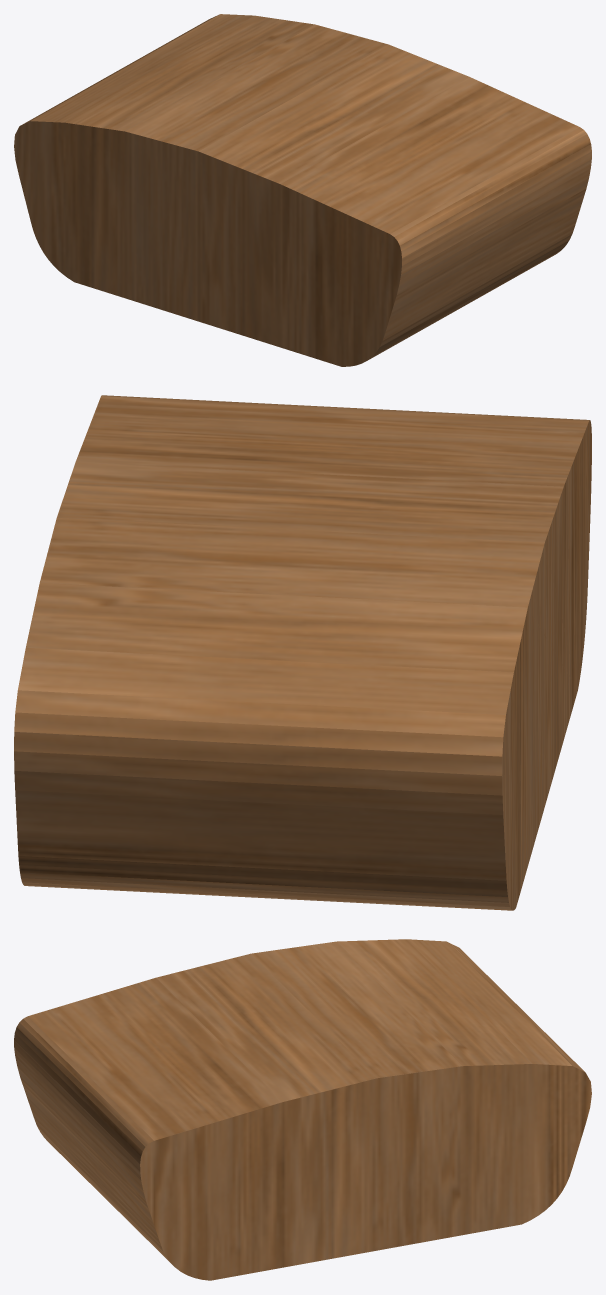
File: Table02.glb
3 renders of one model, top to bottom at view 1: azimuth 30°, elevation 25°; view 2: azimuth 150°, elevation 25°; view 3: azimuth 270°, elevation 25°, orthographic. The views are drawn at different scales.
Visible parts, largest first — view 1: Geom3D_.434; view 2: Geom3D_.434; view 3: Geom3D_.434.
Part boxes in pixels (left/top/right/bottom): Geom3D_.434: left=14, top=14, right=591, bottom=366; Geom3D_.434: left=14, top=395, right=591, bottom=910; Geom3D_.434: left=14, top=939, right=591, bottom=1280.
Bounding box in the file's own units: 1.07 × 0.415 × 1.26.
1 material, 1 textured.
